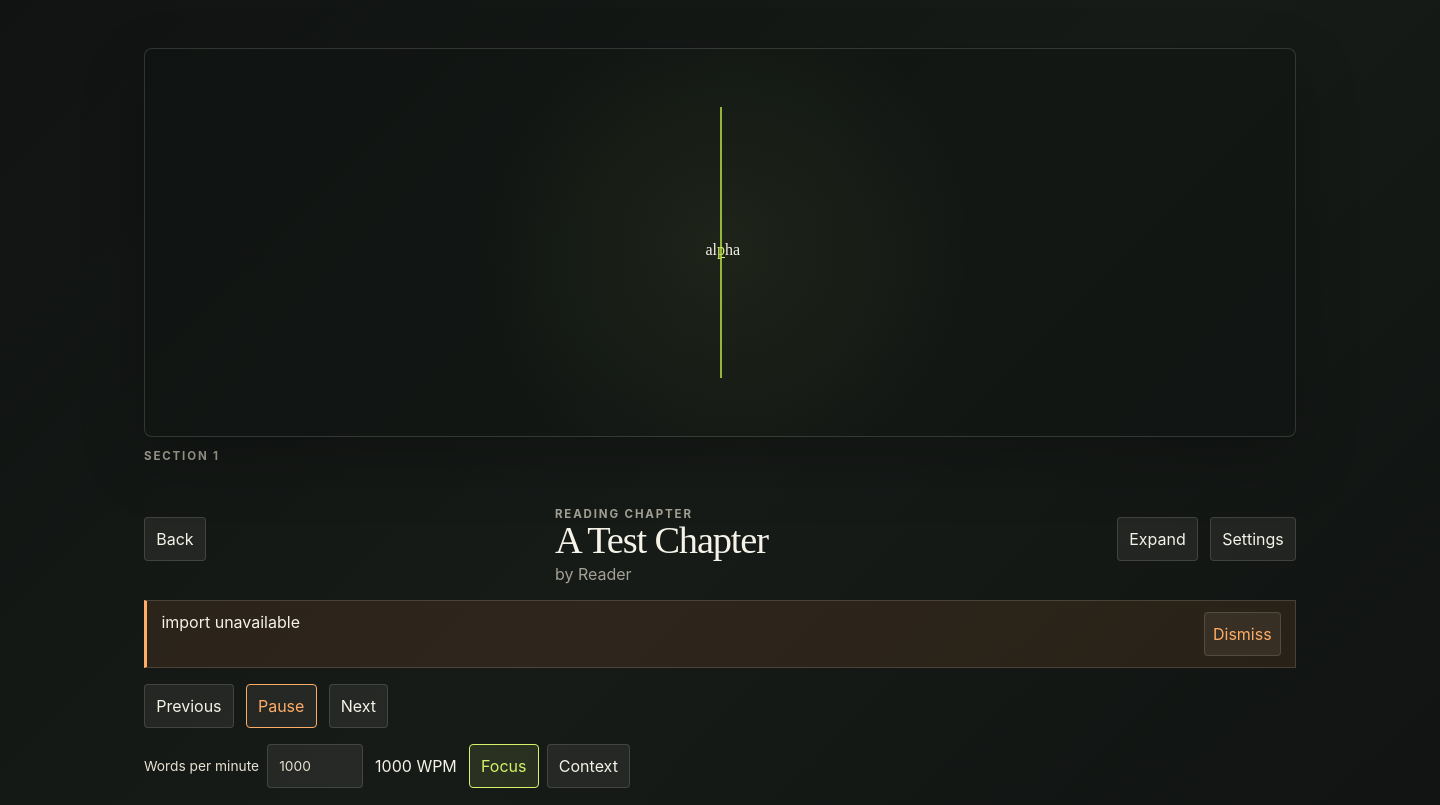
reader surface › falls back to defaults after storage reads fail and keeps a dismissible notice
Click the button "Pause". click: (281, 706)
box: [246, 684, 316, 728]
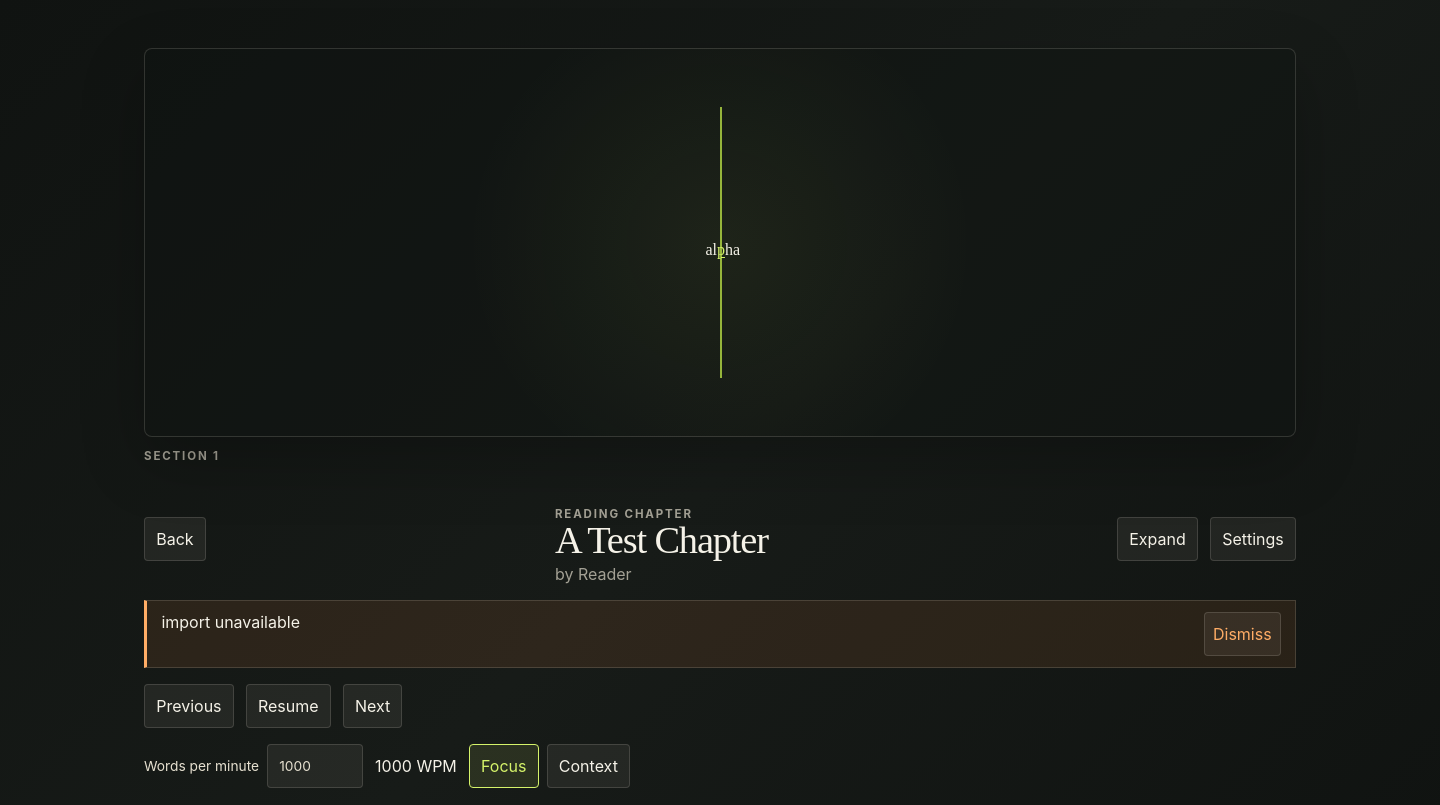
Check: the text "import unavailable" is shown, box [161, 612, 300, 632]
Click the button with aria-label "Dismiss notice". click: (1242, 634)
box: [1204, 612, 1281, 656]
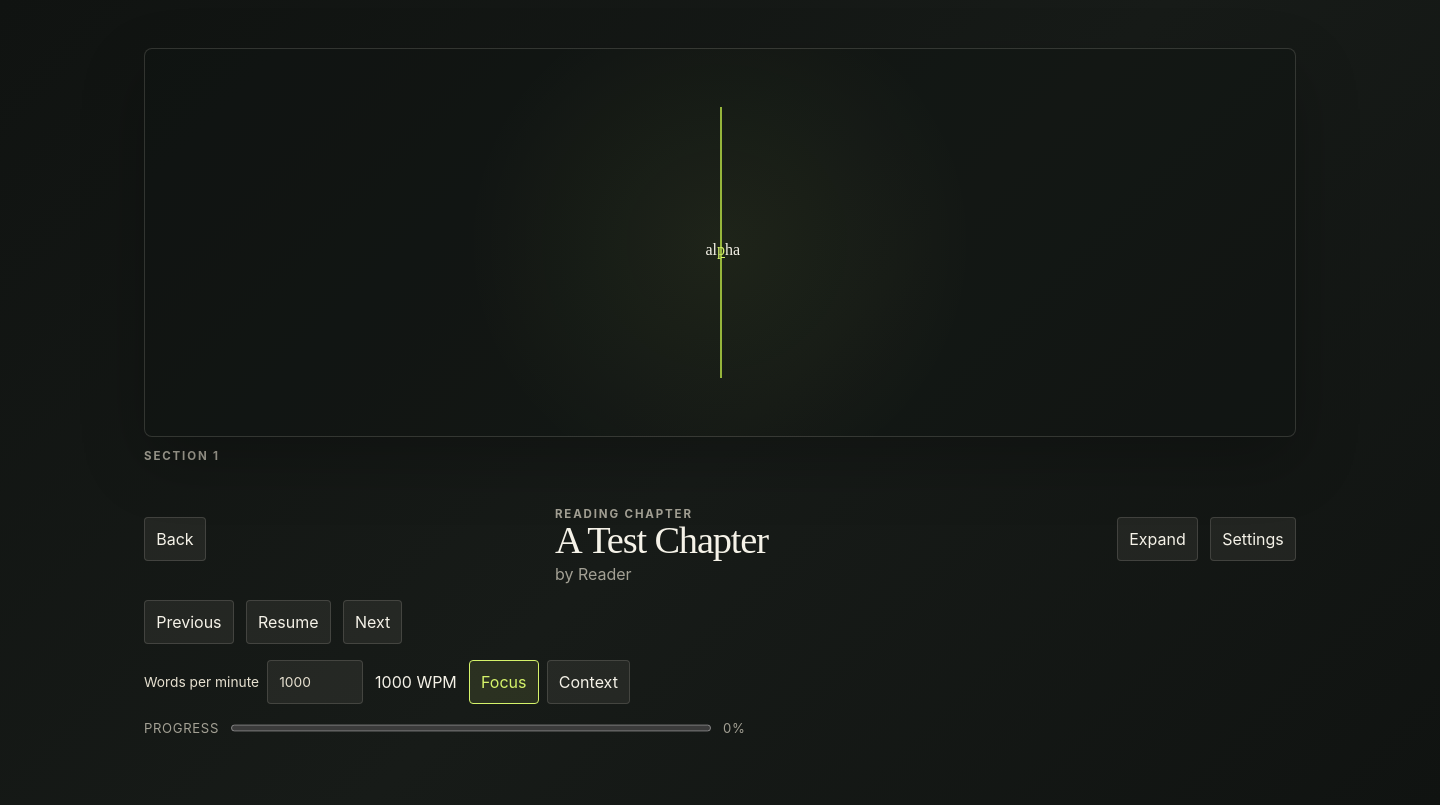
Check: the element with test id "reader-active-word" reads "al p ha", box [705, 242, 740, 258]
Check: the text "import unavailable" is gone
